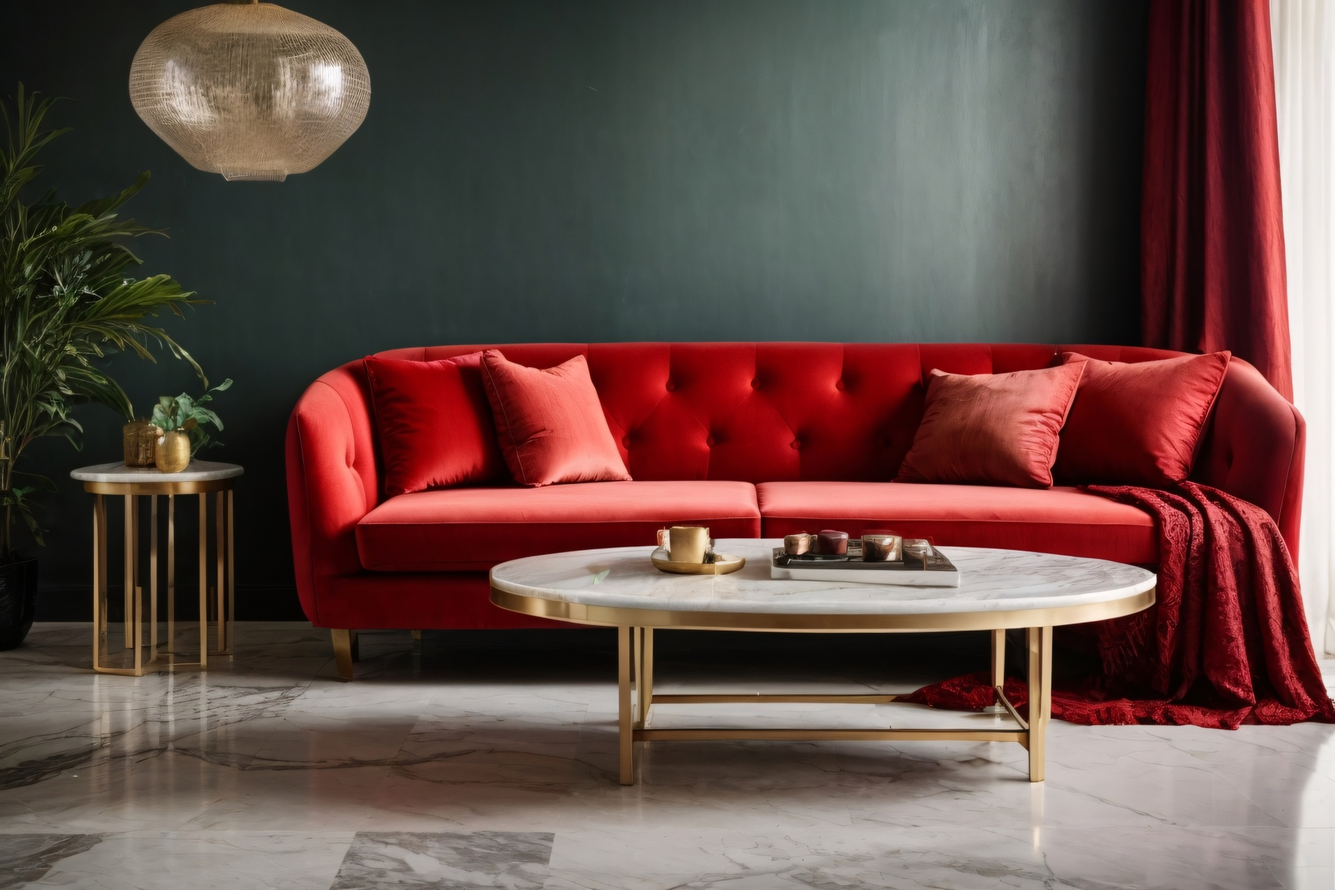Table: (296, 628, 676, 724)
